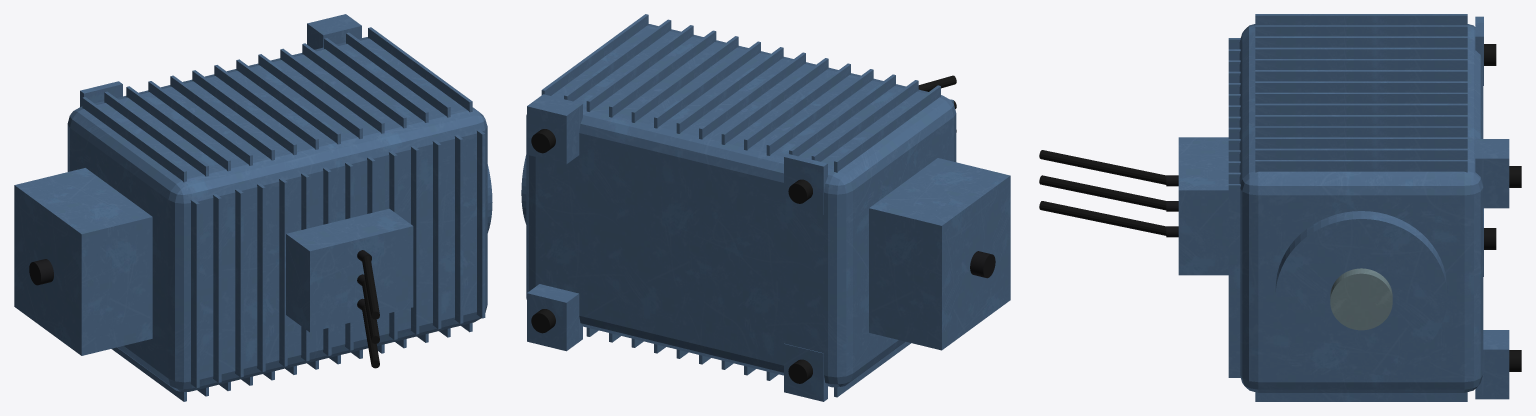
File: generator.glb
The picture shows the model from 3 angles, left to right: view 1: azimuth 30°, elevation 25°; view 2: azimuth 150°, elevation 25°; view 3: azimuth 270°, elevation 25°; orthographic projection. The views are drawn at different scales.
Parts seen in each view (by area): view 1: generator; view 2: generator; view 3: generator.
Boxes of the visible parts, x1=… form: generator: x1=14, y1=14, x2=492, y2=401; generator: x1=521, y1=14, x2=1010, y2=401; generator: x1=1039, y1=14, x2=1521, y2=401.
Bounding box in the file's own units: 3.3 × 1.7 × 3.09.
Materials: 5 (3 with a texture image).
